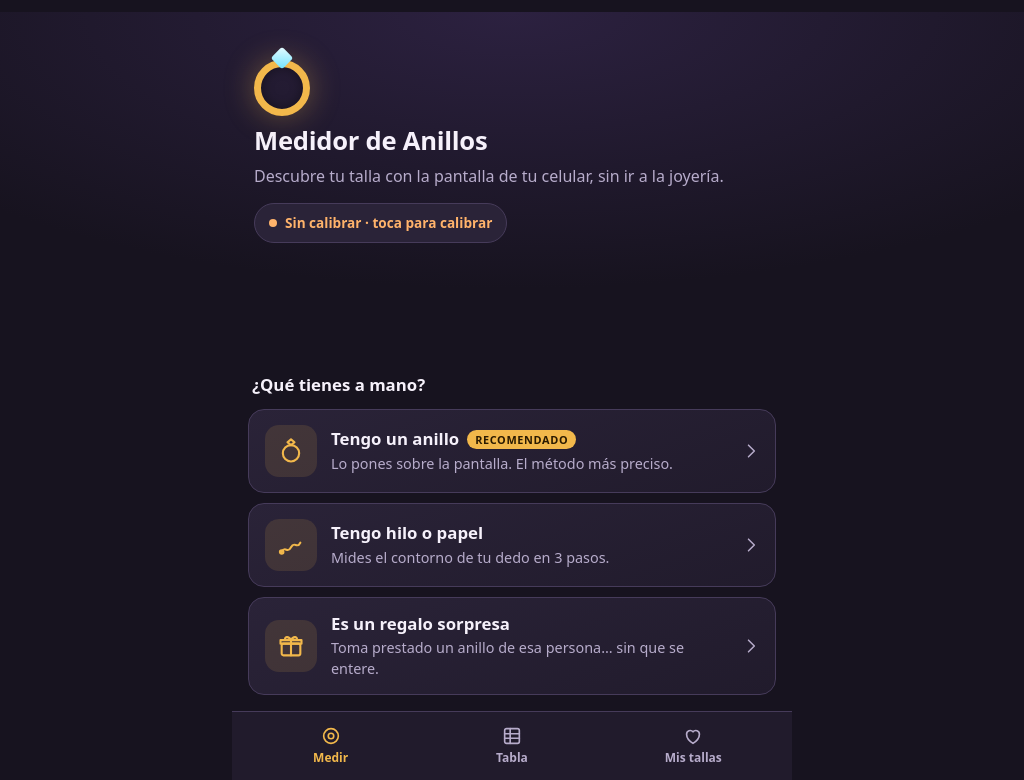
Test case: flujo con anillo › pide calibrar primero y luego muestra el círculo
Step 1. Click the button "Tengo un anillo" → {"x": 512, "y": 451}, box [248,409,776,493]
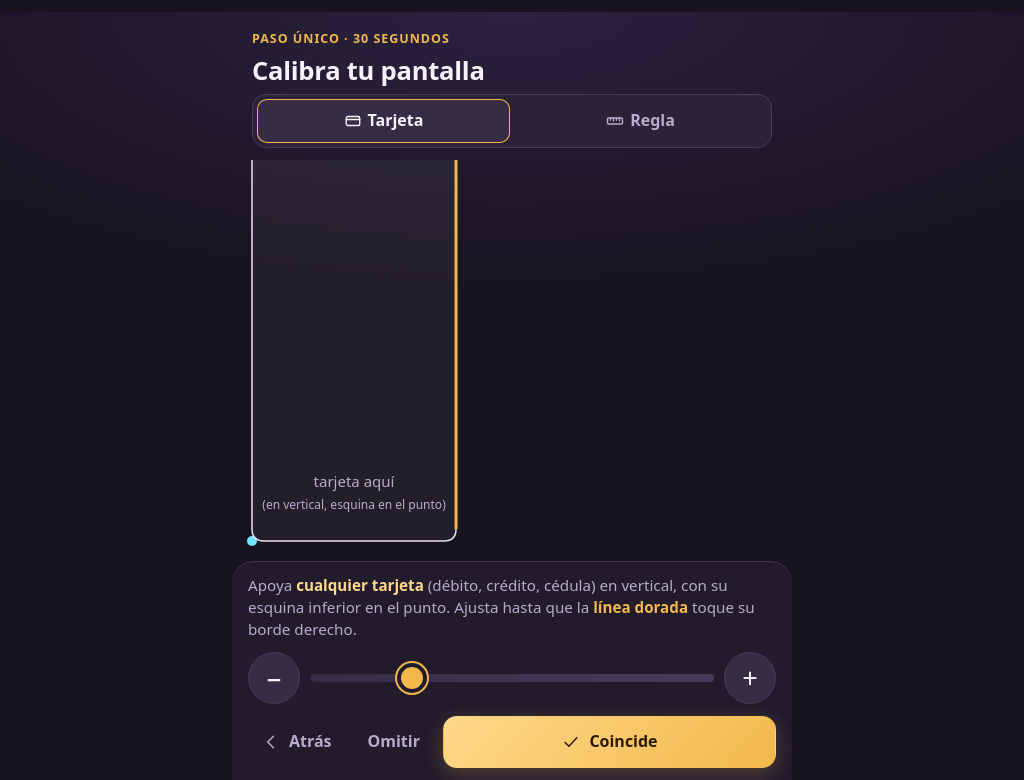
Check: the heading "Calibra tu pantalla" is shown, box [252,53,485,88]
Step 2. Click the button "Coincide" → {"x": 610, "y": 742}, box [443,716,776,768]
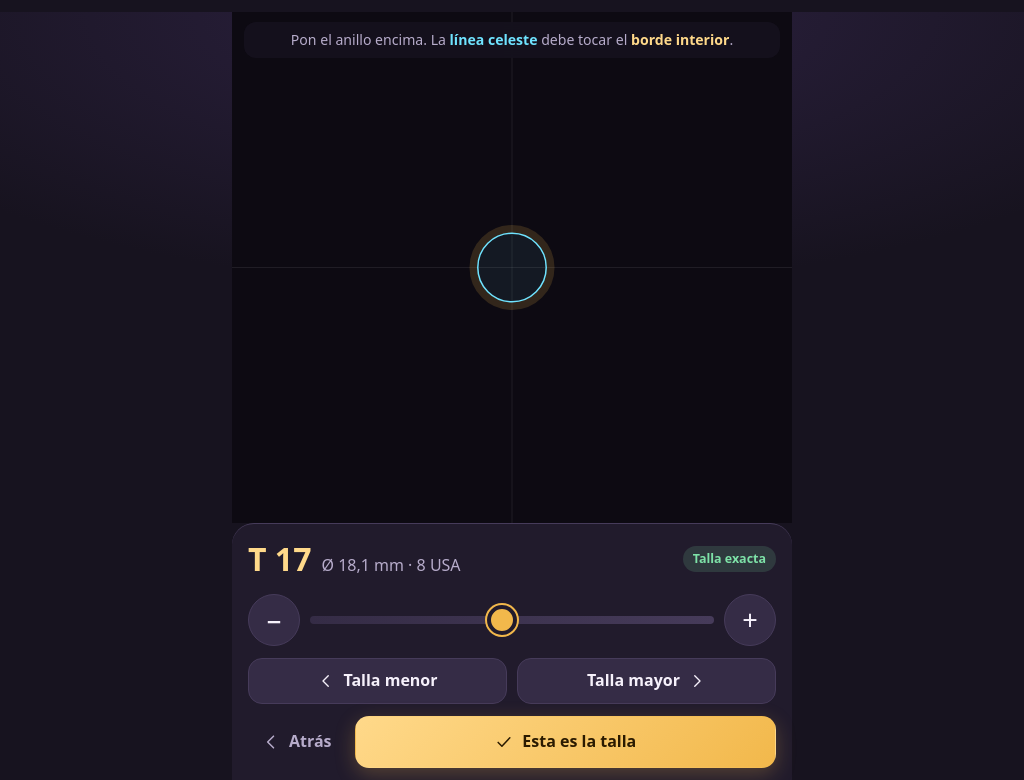
Step 3. Click the button "Talla mayor" → {"x": 646, "y": 681}, box [517,658,776,704]
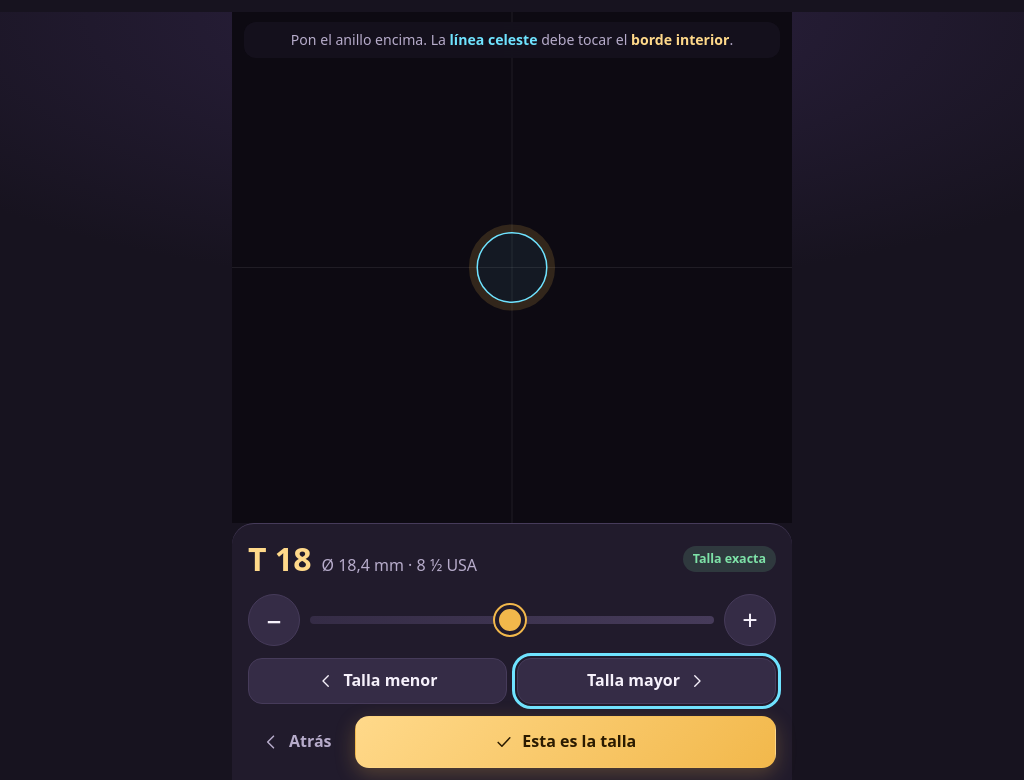
Check: the text "Talla exacta" is shown, box [683,546,776,572]
Check: the text "T 18" is shown, box [248,536,312,582]
